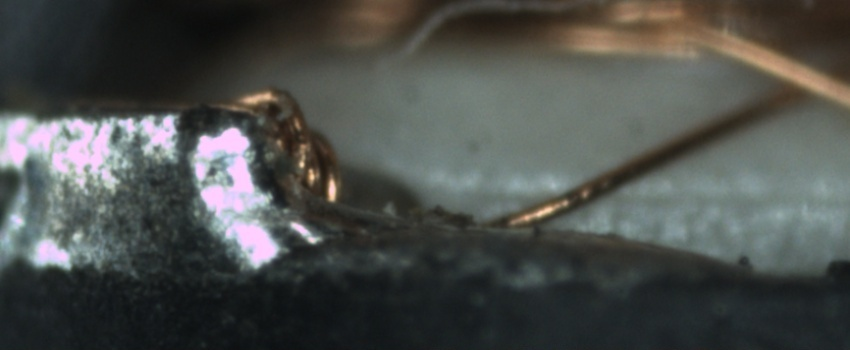CL: (750, 55, 840, 117)
DL: (445, 163, 850, 227)
TE: (233, 89, 354, 219)
